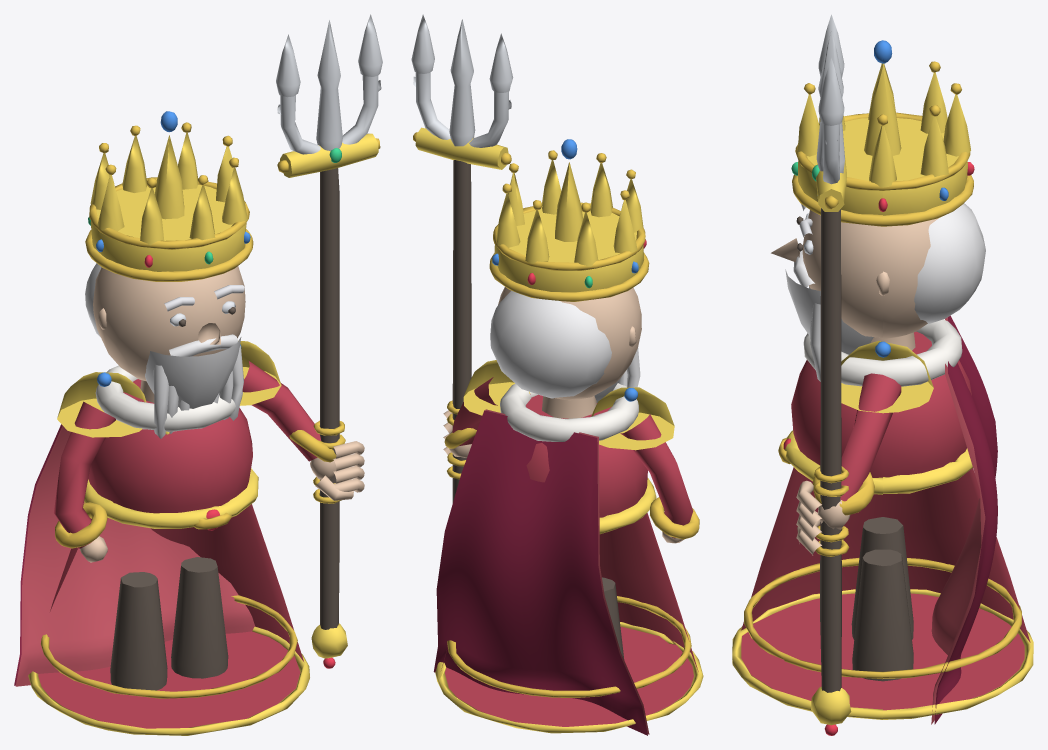
Rendered from king.glb.
The picture shows the model from 3 angles, left to right: view 1: azimuth 30°, elevation 25°; view 2: azimuth 150°, elevation 25°; view 3: azimuth 270°, elevation 25°; orthographic projection. The views are drawn at different scales.
Visible parts, largest first — view 1: King_With_Trident_HD; view 2: King_With_Trident_HD; view 3: King_With_Trident_HD.
Boxes of the visible parts, box(x1,y1,x2,y2) form: King_With_Trident_HD: box(14, 14, 382, 735); King_With_Trident_HD: box(411, 14, 703, 735); King_With_Trident_HD: box(732, 14, 1033, 735).
Bounding box in the file's own units: 1.44 × 2.98 × 1.11.
